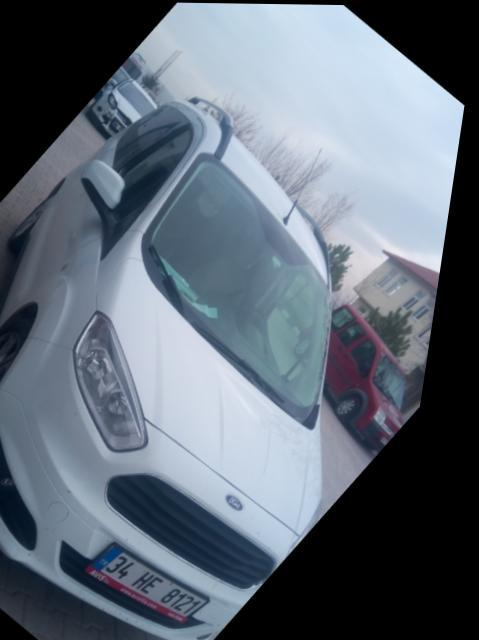scratch: (81, 489, 86, 494)
